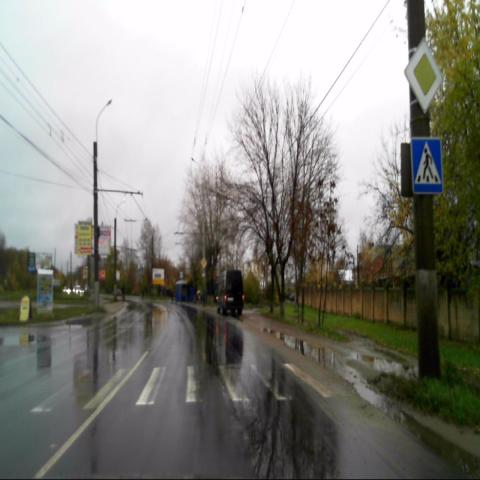2_1: (404, 36, 442, 115)
5_19_1: (410, 136, 444, 196)
